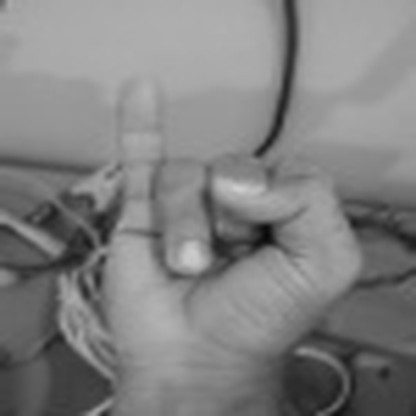i: (102, 68, 370, 376)
